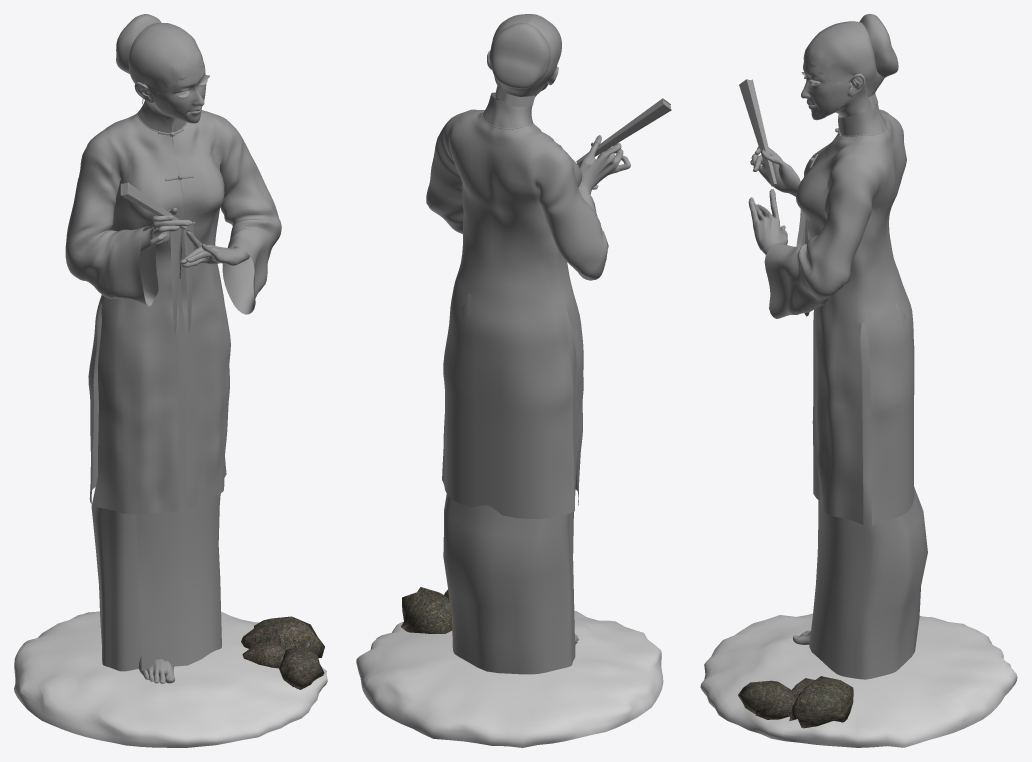
The model's file is girl.FBX.
The picture shows the model from 3 angles, left to right: view 1: azimuth 30°, elevation 25°; view 2: azimuth 150°, elevation 25°; view 3: azimuth 270°, elevation 25°; orthographic projection.
Visible parts, largest first — view 1: Box04, ground; view 2: Box04, ground; view 3: Box04, ground.
Boxes of the visible parts, <box> form: Box04: <box>65,14,281,683</box>; ground: <box>14,611,327,747</box>; Box04: <box>426,14,671,674</box>; ground: <box>356,587,663,747</box>; Box04: <box>739,14,927,679</box>; ground: <box>700,613,1017,747</box>.
Bounding box in the file's own units: 525 × 1250 × 544.
